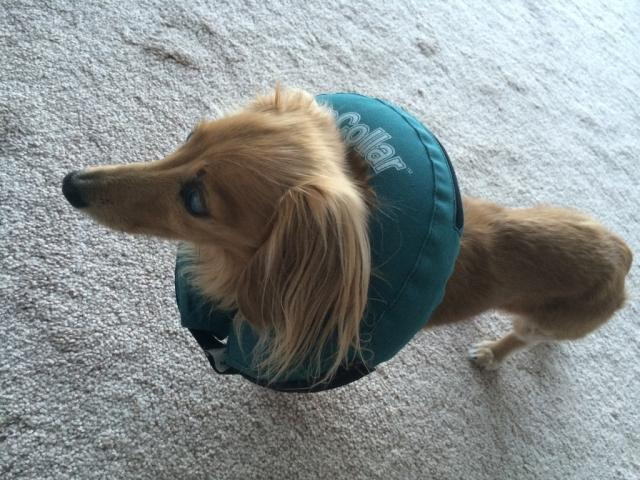Dog: (60, 80, 634, 392)
